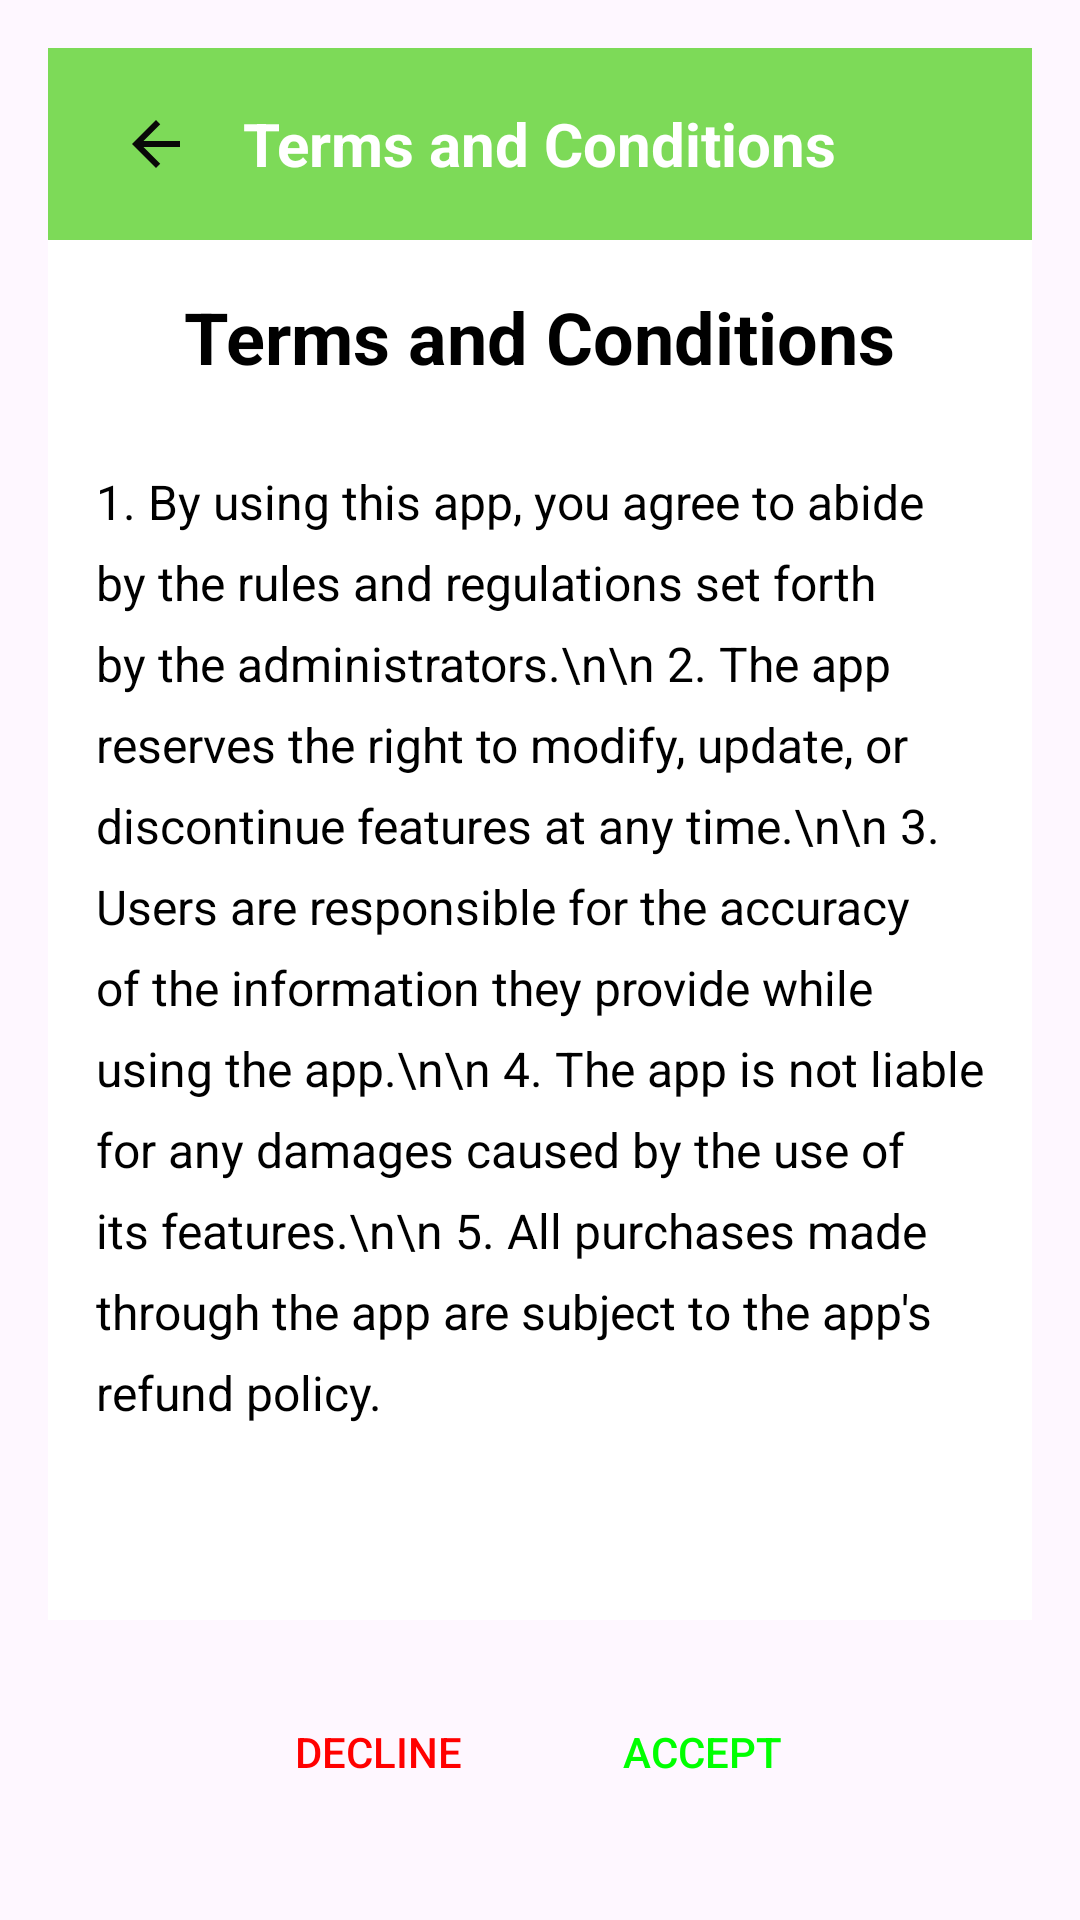

Where icons sit on this 1080 x 1920 app screen, as (x1, y1, x2, y2):
Back: (132, 120, 180, 168)
